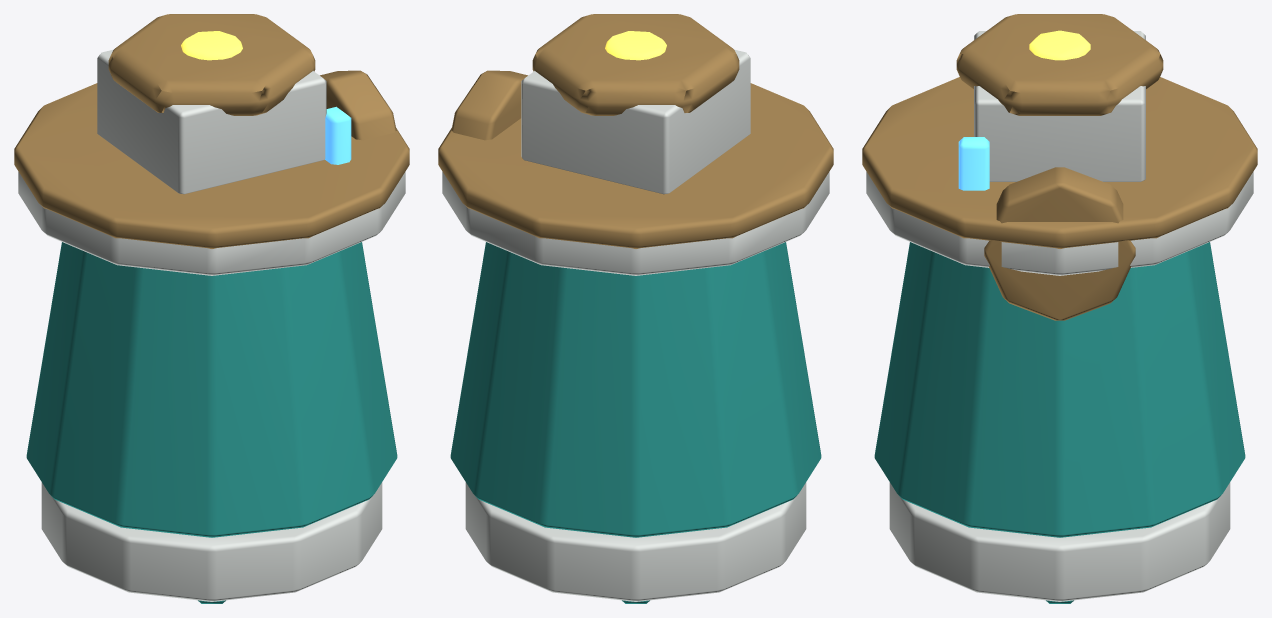
Rendered from whirligig_arm_turbine.glb.
The picture shows the model from 3 angles, left to right: view 1: azimuth 30°, elevation 25°; view 2: azimuth 150°, elevation 25°; view 3: azimuth 270°, elevation 25°; orthographic projection.
Visible parts, largest first — view 1: whirligig_arm_turbine; view 2: whirligig_arm_turbine; view 3: whirligig_arm_turbine.
Part boxes in pixels (left/top/right/bottom): whirligig_arm_turbine: left=14, top=14, right=409, bottom=603; whirligig_arm_turbine: left=438, top=14, right=833, bottom=603; whirligig_arm_turbine: left=862, top=14, right=1257, bottom=603.
Bounding box in the file's own units: 0.5066 × 0.7325 × 0.5066.
Materials: 1 (1 with a texture image).
